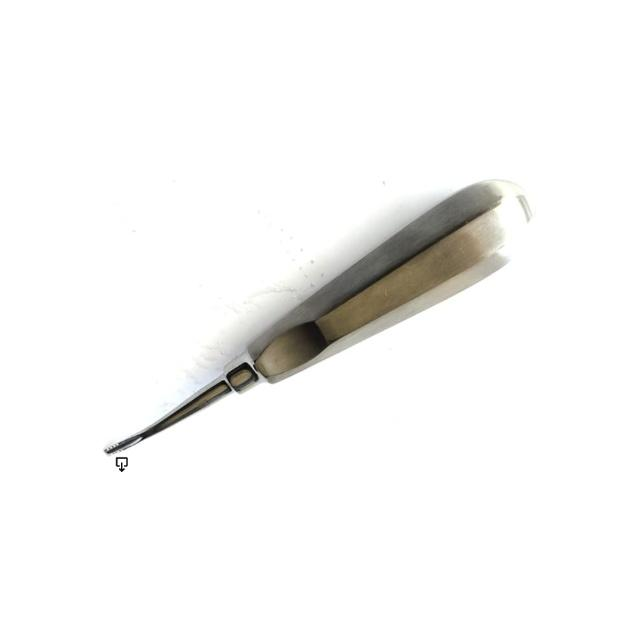botador: (103, 179, 536, 458)
